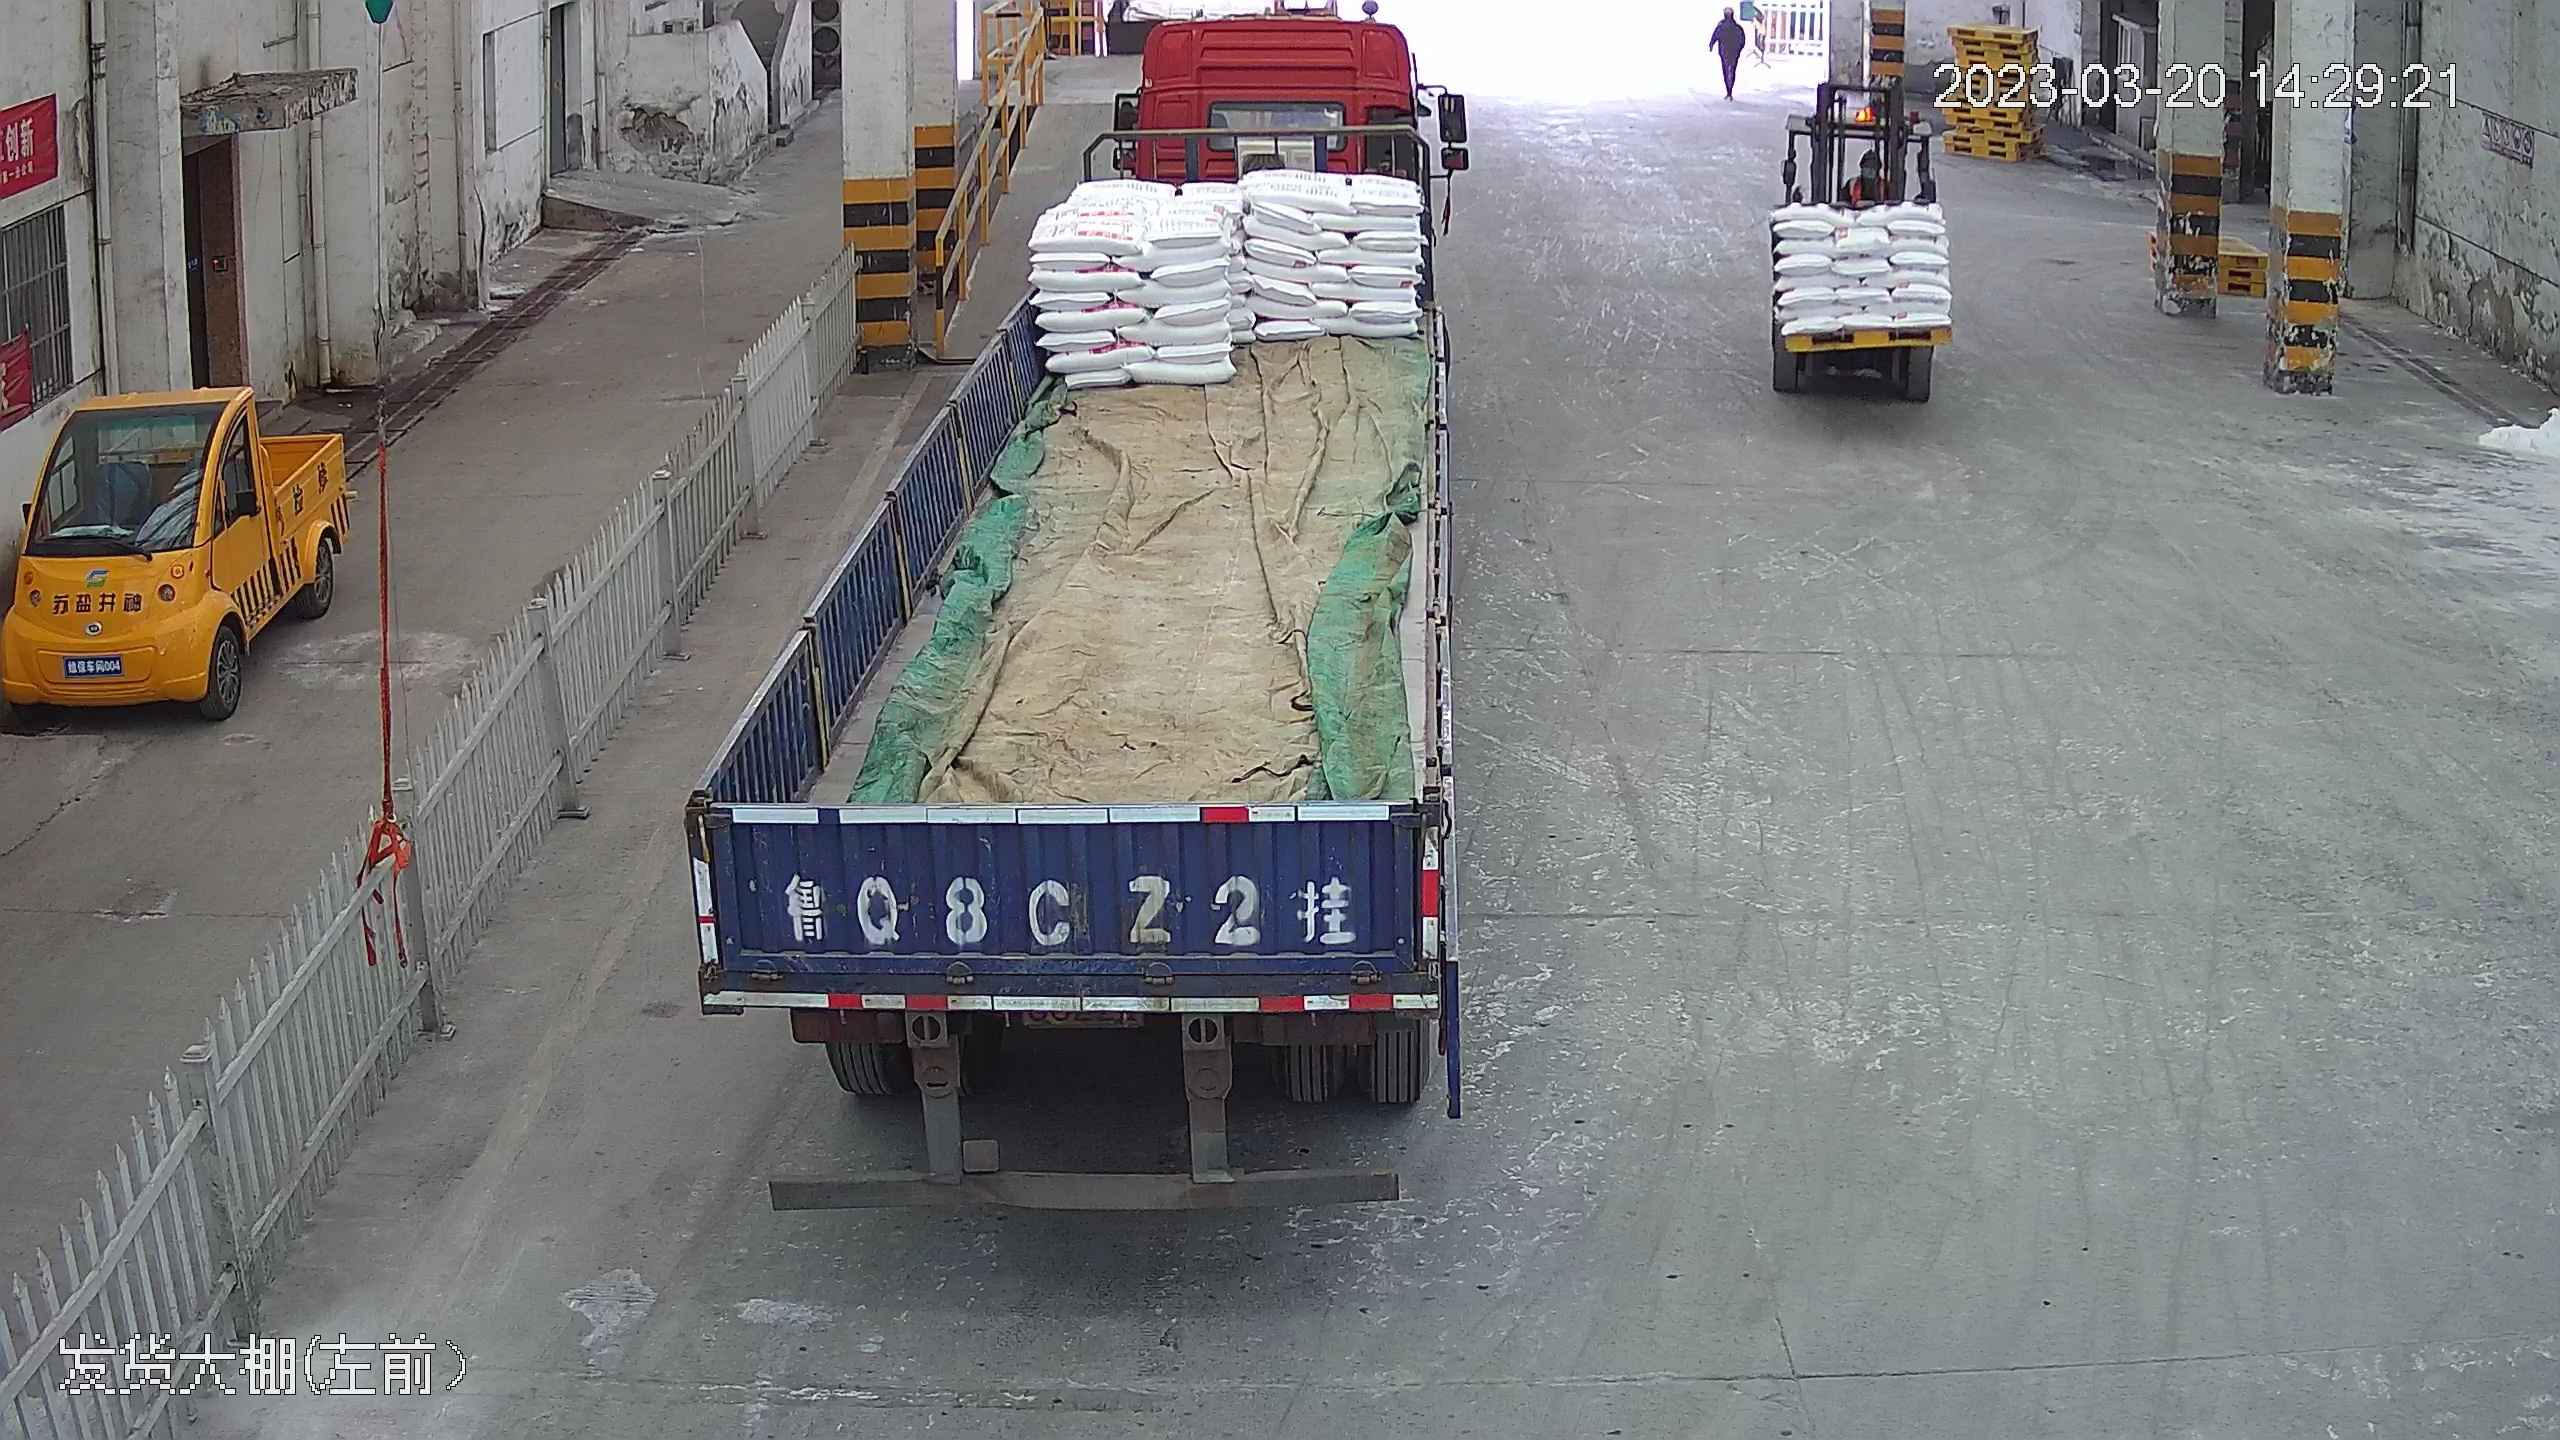head: (1715, 2, 1742, 39)
helmet: (1723, 5, 1734, 14)
people: (1709, 1, 1753, 98)
truck: (708, 8, 1477, 1205)
